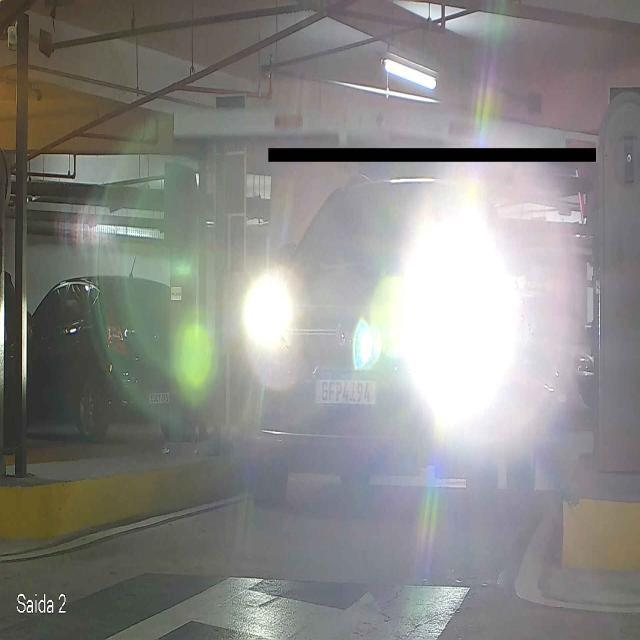mercosul_plate: (311, 367, 381, 406)
